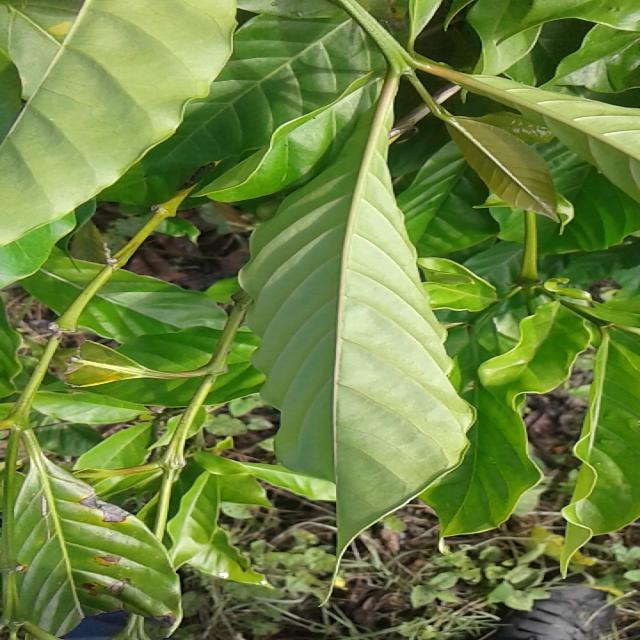Sanas: (238, 78, 476, 557)
